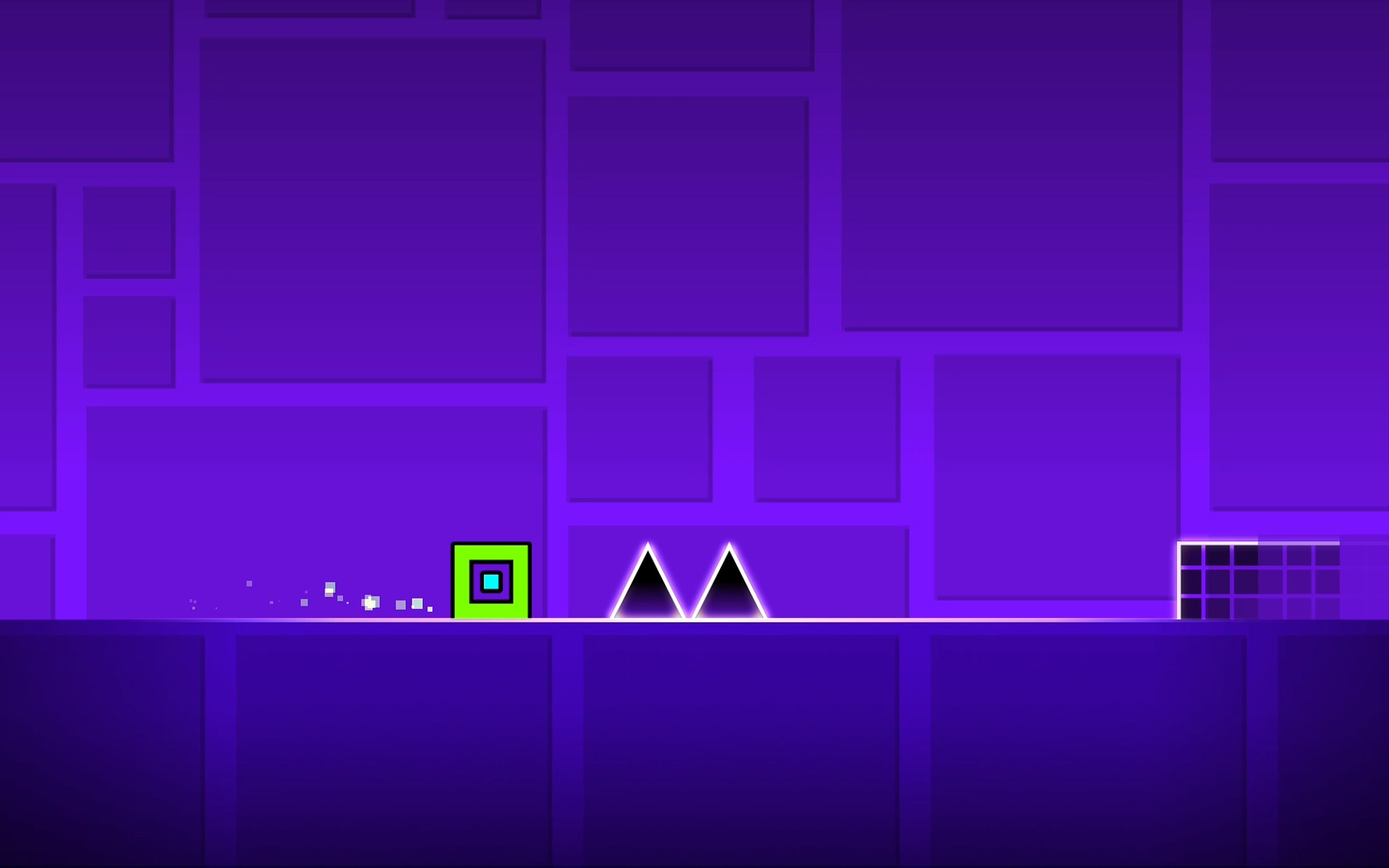Block2: (1179, 541, 1344, 620)
Player: (451, 542, 531, 617)
Spike: (608, 542, 685, 618), (691, 542, 767, 618)
